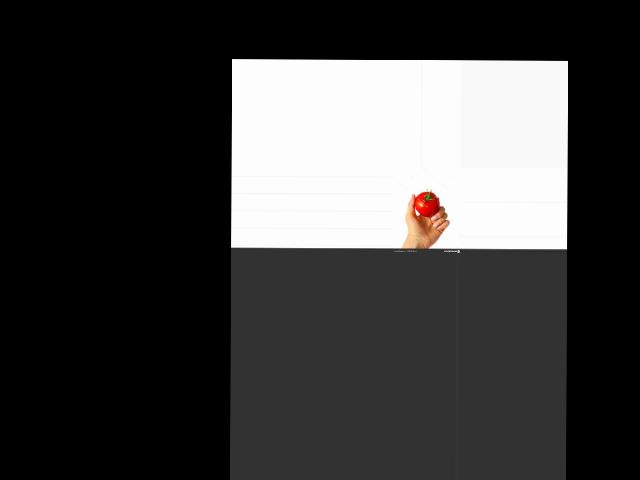tomato: (414, 191, 439, 216)
